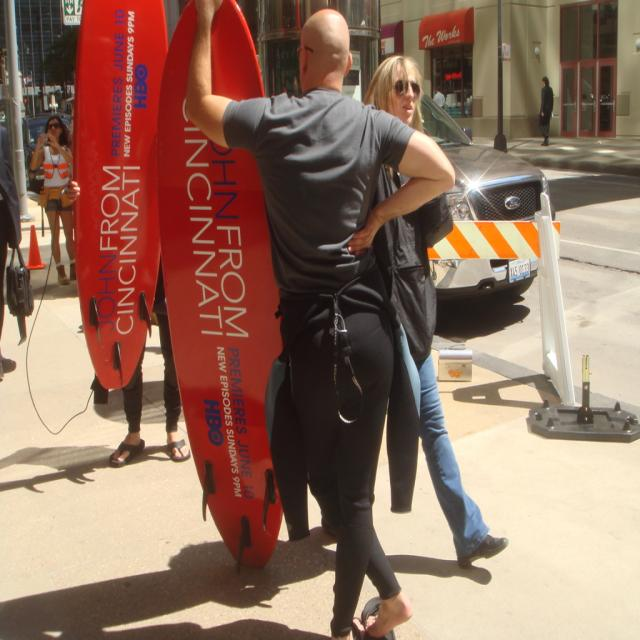Pedestrians: (180, 1, 452, 636), (370, 48, 516, 562), (30, 116, 81, 286), (538, 76, 554, 144)
